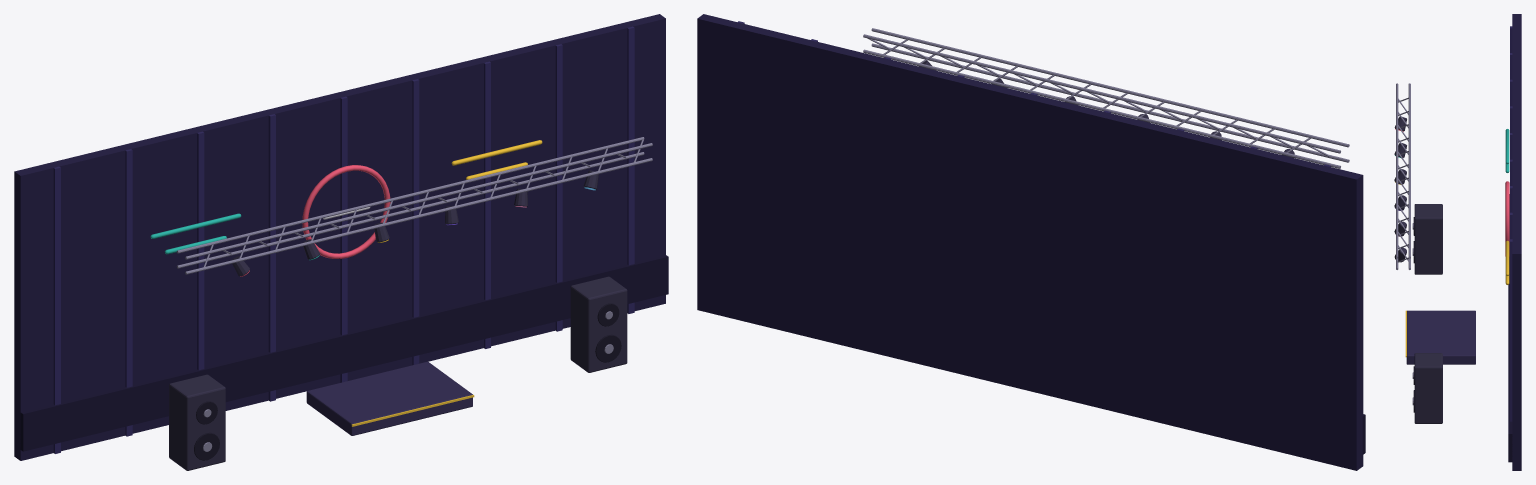
Rendered from club.glb.
The picture shows the model from 3 angles, left to right: view 1: azimuth 30°, elevation 25°; view 2: azimuth 150°, elevation 25°; view 3: azimuth 270°, elevation 25°; orthographic projection. The views are drawn at different scales.
Parts seen in each view (by area): view 1: club; view 2: club; view 3: club.
Part boxes in pixels (<box>): club: <box>14,14,668,470</box>; club: <box>697,14,1365,470</box>; club: <box>1394,14,1521,470</box>.
Bounding box in the file's own units: 18 × 7.6 × 4.04.
